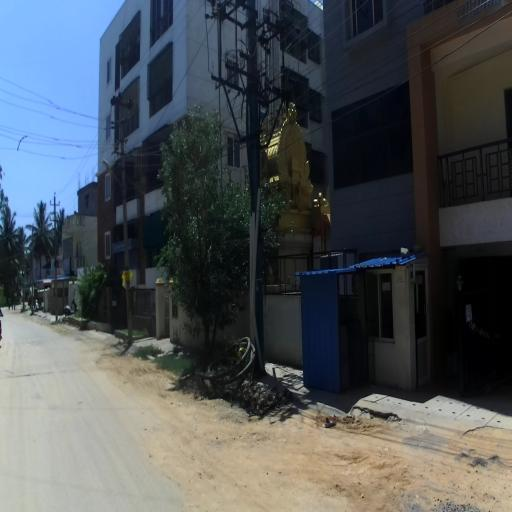street_light_0: (102, 159, 127, 201)
